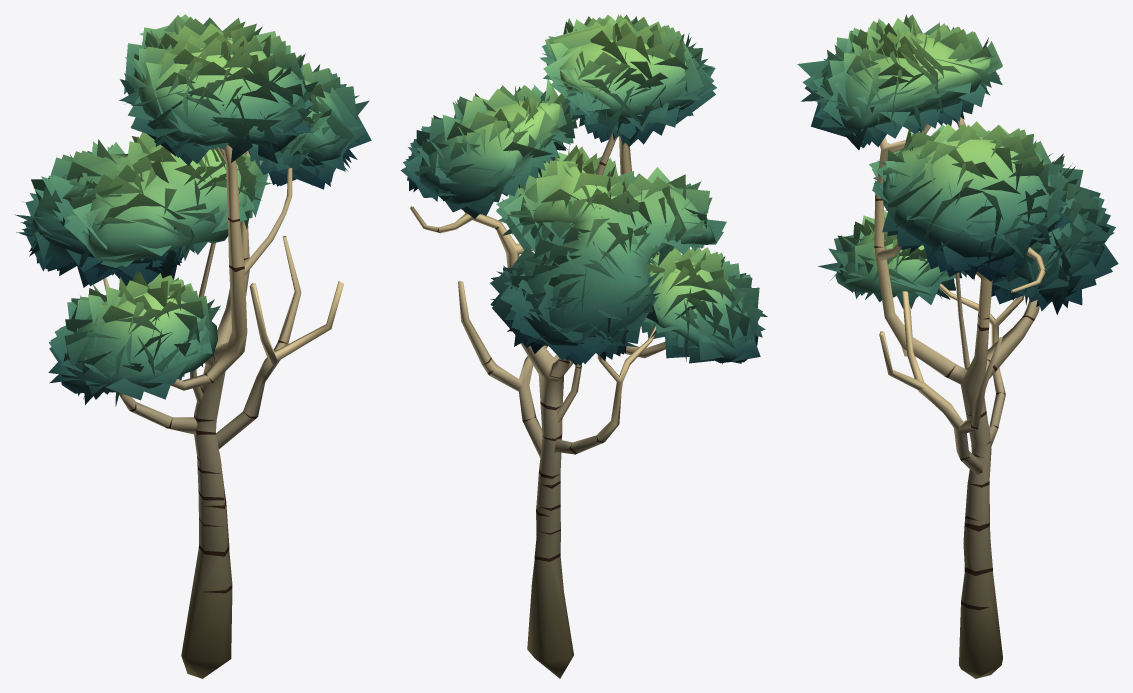
File: Forest_Tree_9D.fbx
3 views of the same model, side by side, from view 1: azimuth 30°, elevation 25°; view 2: azimuth 150°, elevation 25°; view 3: azimuth 270°, elevation 25° (orthographic). The views are drawn at different scales.
Visible parts, largest first — view 1: Forest_Tree_9D; view 2: Forest_Tree_9D; view 3: Forest_Tree_9D.
Boxes of the visible parts, left/top/right/bottom form: Forest_Tree_9D: left=15, top=14, right=371, bottom=678; Forest_Tree_9D: left=400, top=14, right=767, bottom=678; Forest_Tree_9D: left=797, top=14, right=1118, bottom=678.
Size of the model in its own units: 511 by 972 by 444.
